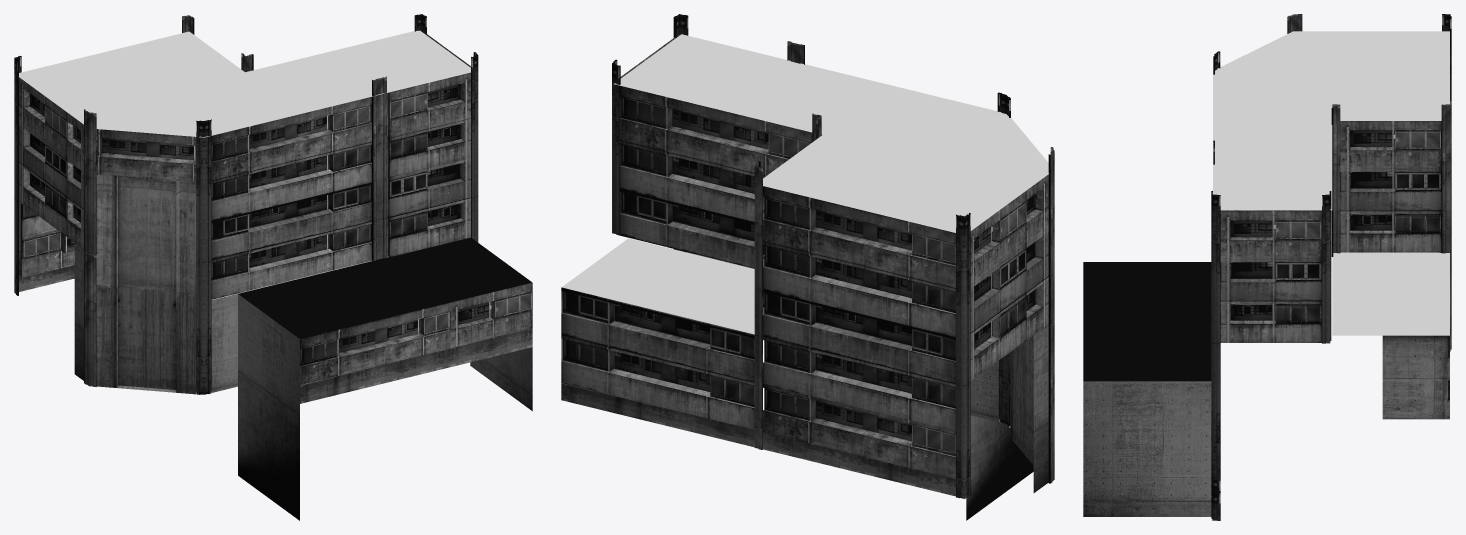
Rendered from skidrow_building_7.fbx.
The picture shows the model from 3 angles, left to right: view 1: azimuth 30°, elevation 25°; view 2: azimuth 150°, elevation 25°; view 3: azimuth 270°, elevation 25°; orthographic projection. The views are drawn at different scales.
Visible parts, largest first — view 1: building_6, building_6_concrete, Plane001; view 2: building_6, Plane001, building_6_concrete; view 3: Plane001, building_6_concrete, building_6.
Part boxes in pixels (x1=…): building_6: x1=14, y1=14, x2=532, y2=394; building_6_concrete: x1=19, y1=174, x2=532, y2=520; Plane001: x1=19, y1=30, x2=470, y2=137; building_6: x1=561, y1=14, x2=1054, y2=498; Plane001: x1=561, y1=34, x2=1048, y2=334; building_6_concrete: x1=561, y1=252, x2=1048, y2=520; Plane001: x1=1213, y1=31, x2=1449, y2=335; building_6_concrete: x1=1083, y1=210, x2=1449, y2=516; building_6: x1=1211, y1=14, x2=1451, y2=520.
Size of the model in its own units: 2522 by 2482 by 2169.
